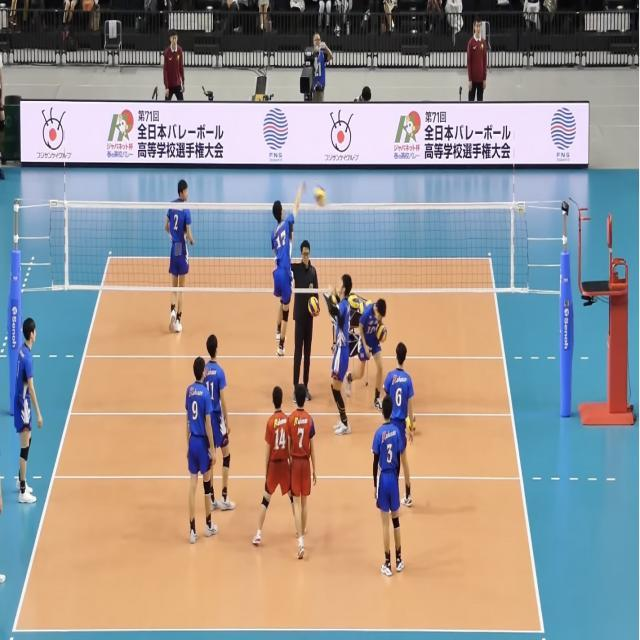spike: (269, 177, 305, 361)
